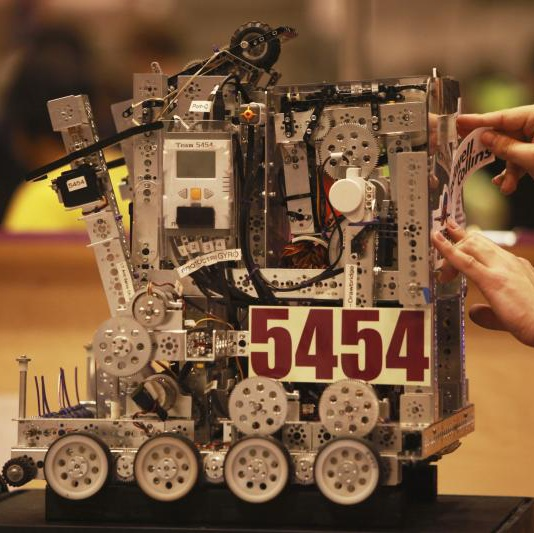robot: (2, 18, 483, 507)
